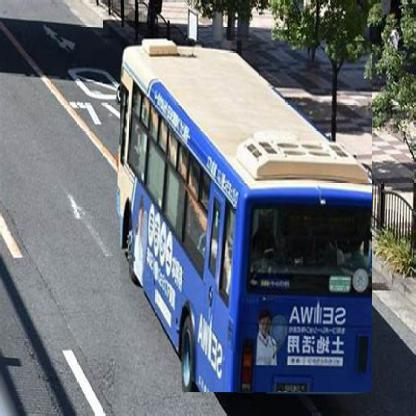bus: (121, 42, 373, 394)
